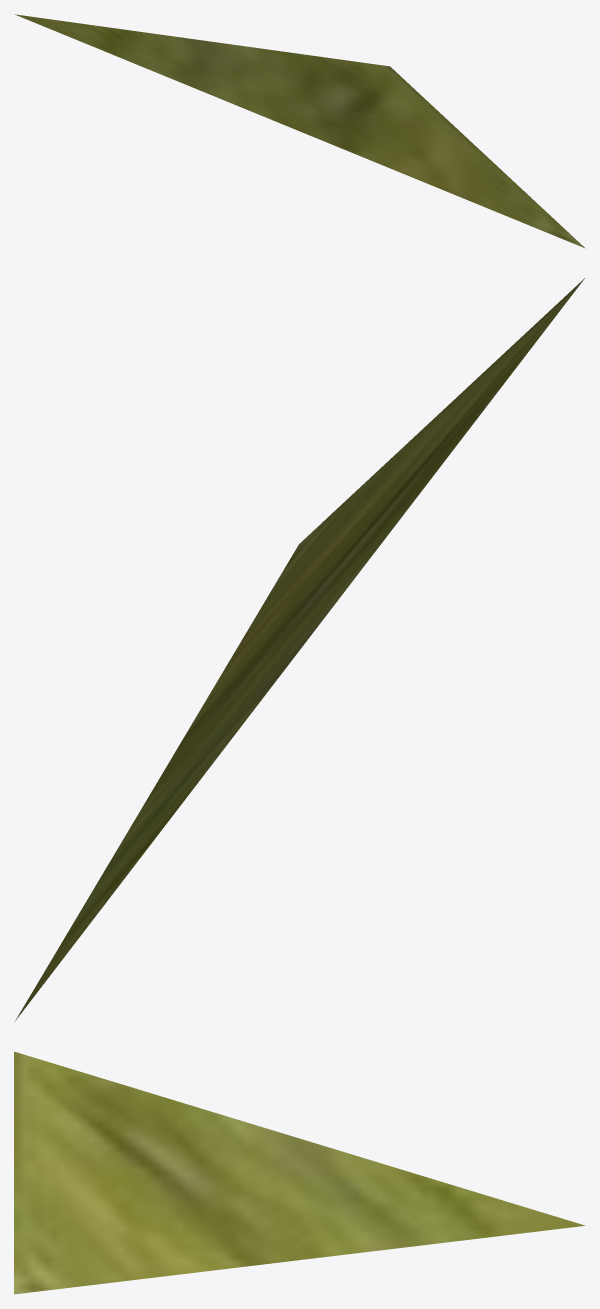
The picture shows the model from 3 angles, top to bottom: view 1: azimuth 30°, elevation 25°; view 2: azimuth 150°, elevation 25°; view 3: azimuth 270°, elevation 25°; orthographic projection. The views are drawn at different scales.
Size of the model in its own units: 0.5048 by 0.5668 by 1.71.
Materials: 1 (1 with a texture image).
